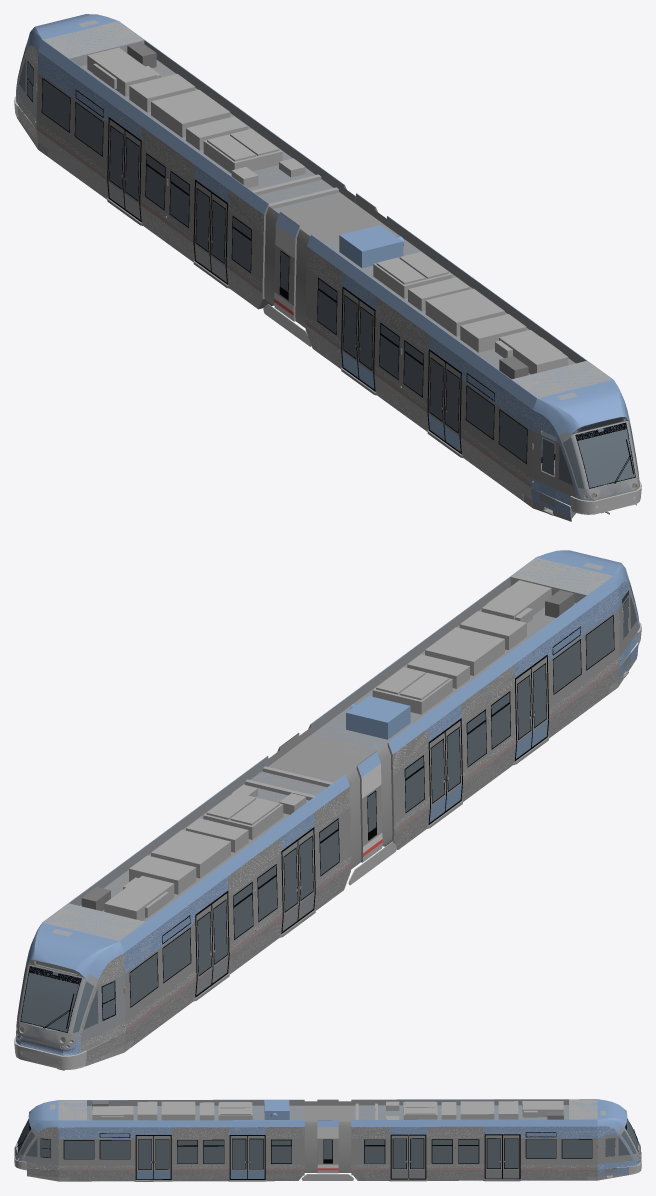
Rendered from VLT.glb.
3 views of the same model, one above another, from view 1: azimuth 30°, elevation 25°; view 2: azimuth 150°, elevation 25°; view 3: azimuth 270°, elevation 25° (orthographic). The views are drawn at different scales.
Parts seen in each view (by area): view 1: instance_10.005, instance_10.098, instance_10.001, instance_10.103, instance_10.011, instance_10.115, instance_10.100, instance_10.147, instance_10.104, instance_10.169, instance_10.093, instance_76 (+38 smaller); view 2: instance_10.103, instance_10.001, instance_10.005, instance_10.098, instance_10.011, instance_10.002, instance_10.147, instance_10.071, instance_55, instance_10.191, instance_10.104, instance_76 (+33 smaller); view 3: instance_10.099, instance_10, instance_10.109, instance_10.005, instance_10.049, instance_10.006, instance_10.017, instance_10.103, instance_10.179, instance_46, instance_51, instance_10.180 (+97 smaller).
Part boxes in pixels (left/top/right/bottom): instance_10.005: left=80, top=40, right=344, bottom=211; instance_10.098: left=307, top=234, right=567, bottom=435; instance_10.001: left=26, top=33, right=268, bottom=214; instance_10.103: left=323, top=216, right=586, bottom=374; instance_10.011: left=17, top=107, right=262, bottom=308; instance_10.115: left=460, top=380, right=576, bottom=497; instance_10.100: left=537, top=379, right=628, bottom=435; instance_10.147: left=305, top=325, right=532, bottom=500; instance_10.104: left=429, top=335, right=581, bottom=505; instance_10.169: left=578, top=429, right=634, bottom=487; instance_10.093: left=43, top=21, right=144, bottom=66; instance_76: left=151, top=89, right=230, bottom=137; instance_10.103: left=311, top=577, right=575, bottom=751; instance_10.001: left=89, top=774, right=349, bottom=978; instance_10.005: left=69, top=756, right=333, bottom=921; instance_10.098: left=388, top=569, right=629, bottom=754; instance_10.011: left=85, top=865, right=351, bottom=1066; instance_10.002: left=27, top=922, right=119, bottom=979; instance_10.147: left=393, top=667, right=619, bottom=849; instance_10.071: left=21, top=972, right=78, bottom=1031; instance_55: left=425, top=627, right=504, bottom=675; instance_10.191: left=510, top=557, right=612, bottom=603; instance_10.104: left=514, top=581, right=639, bottom=677; instance_76: left=151, top=829, right=230, bottom=878; instance_10.099: left=34, top=1120, right=304, bottom=1133; instance_10: left=351, top=1119, right=621, bottom=1131; instance_10.109: left=27, top=1168, right=304, bottom=1181; instance_10.005: left=351, top=1099, right=568, bottom=1119; instance_10.049: left=351, top=1169, right=597, bottom=1180; instance_10.006: left=484, top=1126, right=640, bottom=1167; instance_10.017: left=520, top=1136, right=632, bottom=1164; instance_10.103: left=87, top=1100, right=304, bottom=1120; instance_10.179: left=58, top=1127, right=171, bottom=1138; instance_46: left=304, top=1101, right=317, bottom=1172; instance_51: left=338, top=1101, right=351, bottom=1172; instance_10.180: left=58, top=1139, right=135, bottom=1165.
Bounding box in the file's own units: 0.0129 × 0.0152 × 0.1369.
